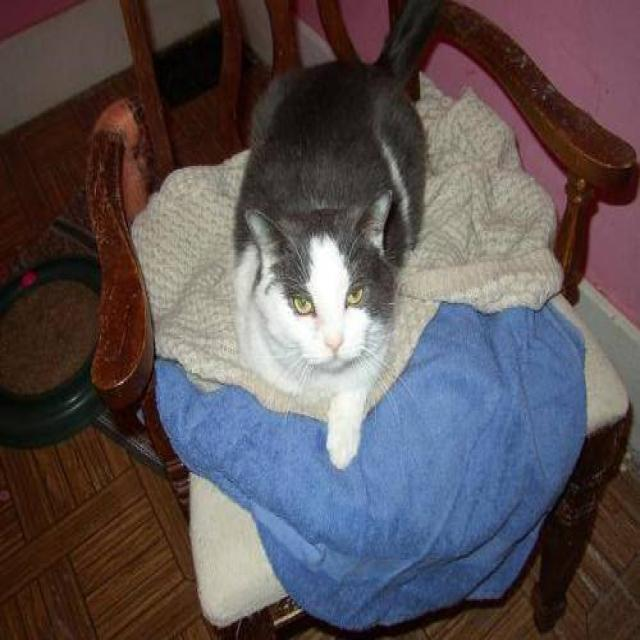cat: (230, 0, 443, 469)
